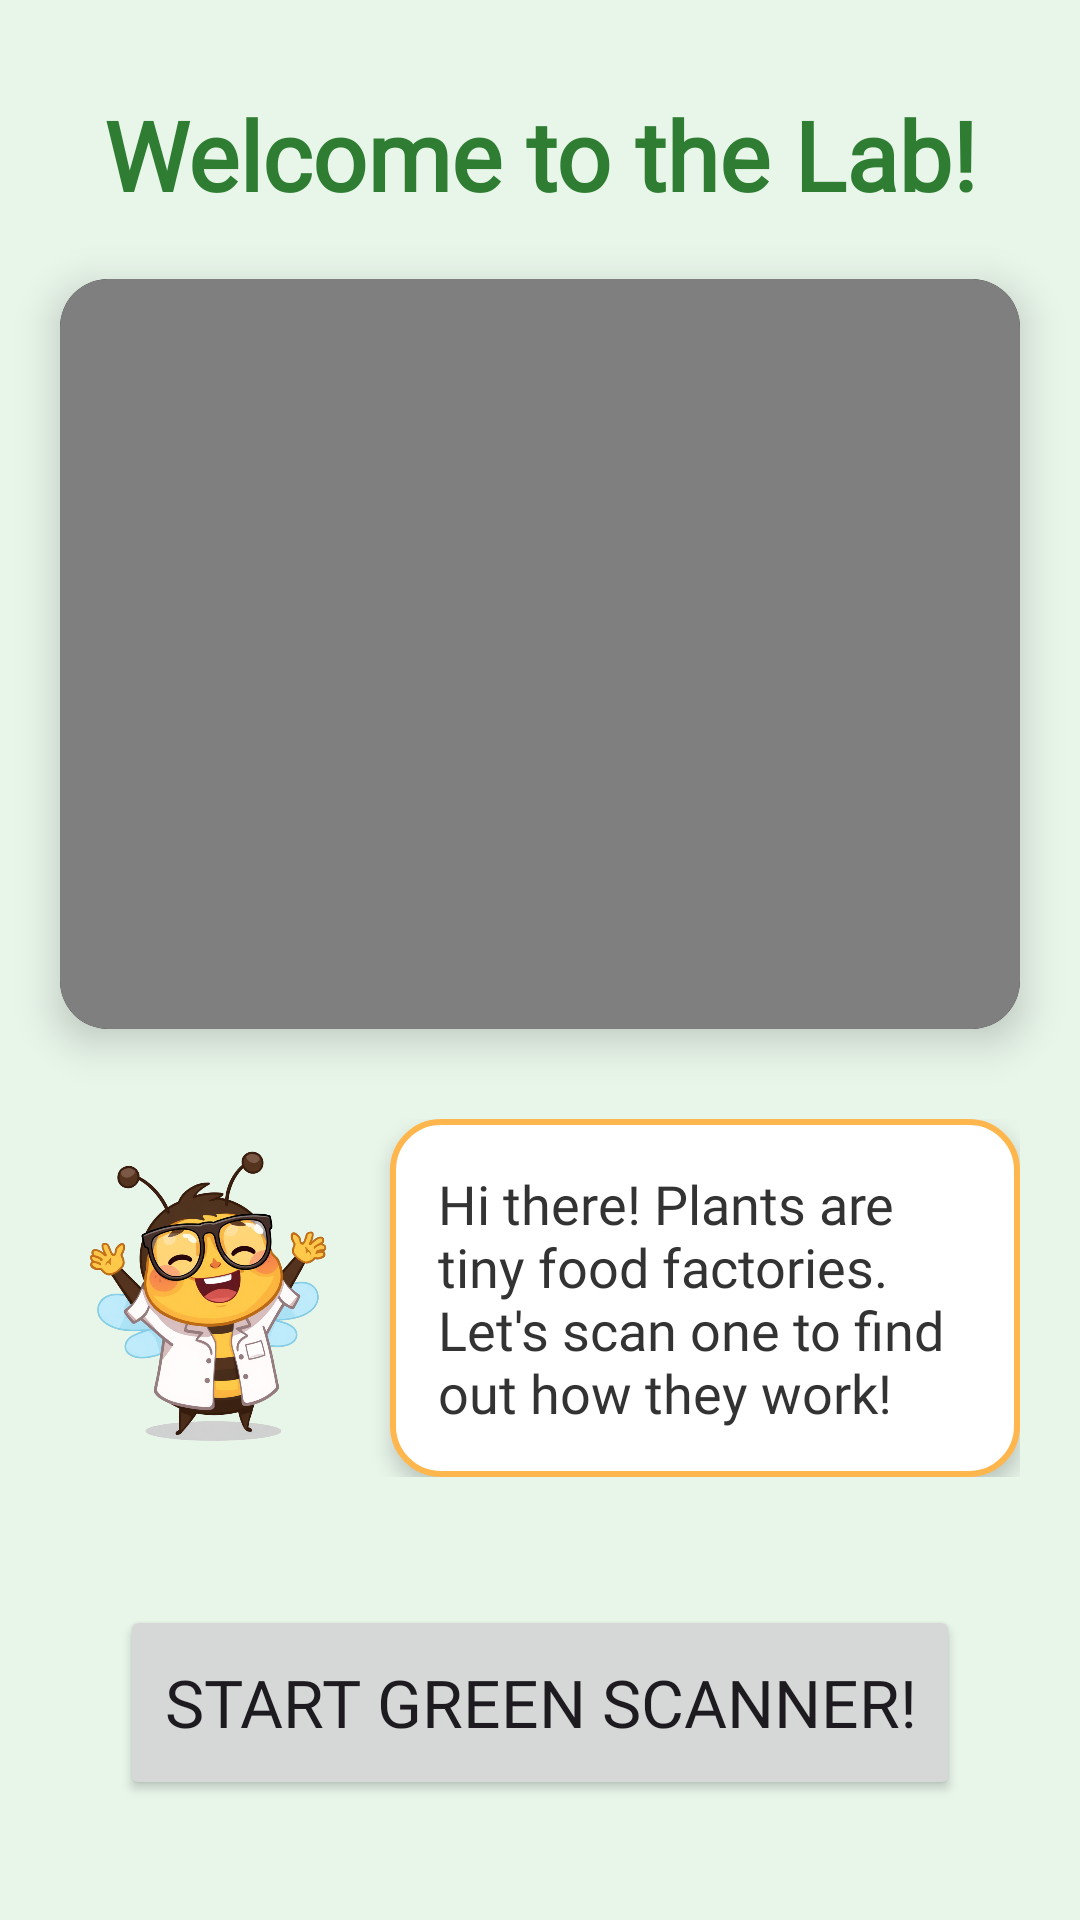

Icons on this 1080px×1920px Android screen, each with its box as (x1, y1, x2, y2):
mascot happy: (90, 1151, 326, 1441)
